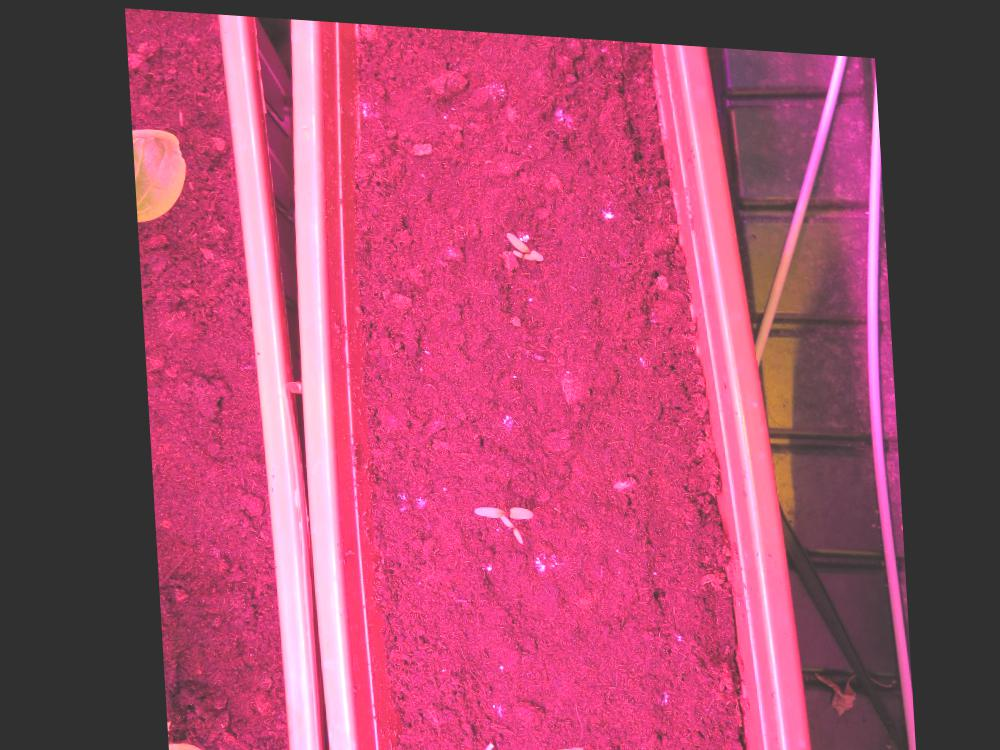weed: (542, 736, 577, 749)
